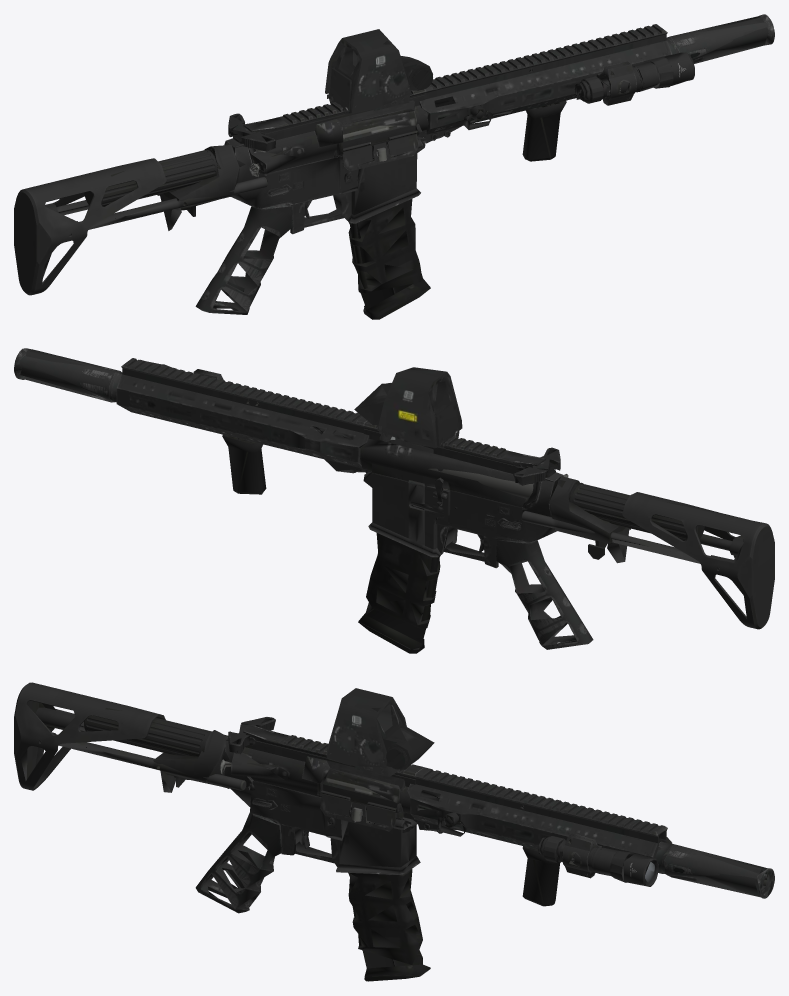
The picture shows the model from 3 angles, top to bottom: view 1: azimuth 30°, elevation 25°; view 2: azimuth 150°, elevation 25°; view 3: azimuth 330°, elevation 25°; orthographic projection.
Parts seen in each view (by area): view 1: base, base_19, base_6, base_17, mag_2, sight, base_18, silencer, light_2, foregrip, base_15, light (+1 smaller); view 2: base, base_19, base_6, base_17, mag_2, sight, base_18, silencer, foregrip, base_21, base_16; view 3: base, base_19, base_6, base_17, mag_2, sight, base_18, silencer, light_2, base_15, foregrip, light (+1 smaller).
Part boxes in pixels (x1=…): base: x1=14, y1=143, x2=267, y2=295; base_19: x1=419, y1=24, x2=672, y2=143; base_6: x1=224, y1=137, x2=426, y2=234; base_17: x1=243, y1=89, x2=428, y2=177; mag_2: x1=348, y1=199, x2=430, y2=319; sight: x1=325, y1=29, x2=432, y2=114; base_18: x1=195, y1=205, x2=293, y2=314; silencer: x1=666, y1=14, x2=774, y2=63; light_2: x1=574, y1=52, x2=694, y2=103; foregrip: x1=522, y1=100, x2=566, y2=161; base_15: x1=342, y1=130, x2=418, y2=171; light: x1=596, y1=61, x2=636, y2=105; base: x1=521, y1=476, x2=774, y2=629; base_19: x1=116, y1=358, x2=369, y2=473; base_6: x1=363, y1=471, x2=563, y2=568; base_17: x1=360, y1=420, x2=568, y2=507; mag_2: x1=358, y1=505, x2=440, y2=653; sight: x1=354, y1=367, x2=462, y2=453; base_18: x1=495, y1=539, x2=593, y2=649; silencer: x1=14, y1=348, x2=122, y2=402; foregrip: x1=222, y1=434, x2=266, y2=494; base_21: x1=513, y1=447, x2=560, y2=485; base_16: x1=428, y1=468, x2=533, y2=498; base: x1=14, y1=682, x2=246, y2=792; base_19: x1=407, y1=767, x2=672, y2=866; base_6: x1=224, y1=738, x2=420, y2=874; base_17: x1=220, y1=725, x2=424, y2=824; mag_2: x1=348, y1=869, x2=430, y2=981; sight: x1=326, y1=688, x2=434, y2=776; base_18: x1=195, y1=813, x2=281, y2=913; silencer: x1=655, y1=841, x2=774, y2=898; light_2: x1=538, y1=836, x2=658, y2=886; base_15: x1=320, y1=790, x2=396, y2=831; foregrip: x1=522, y1=846, x2=559, y2=906; light: x1=563, y1=833, x2=601, y2=878.
Bounding box in the file's own units: 0.8184 × 0.2939 × 0.0862.
Materials: 15 (15 with a texture image).
